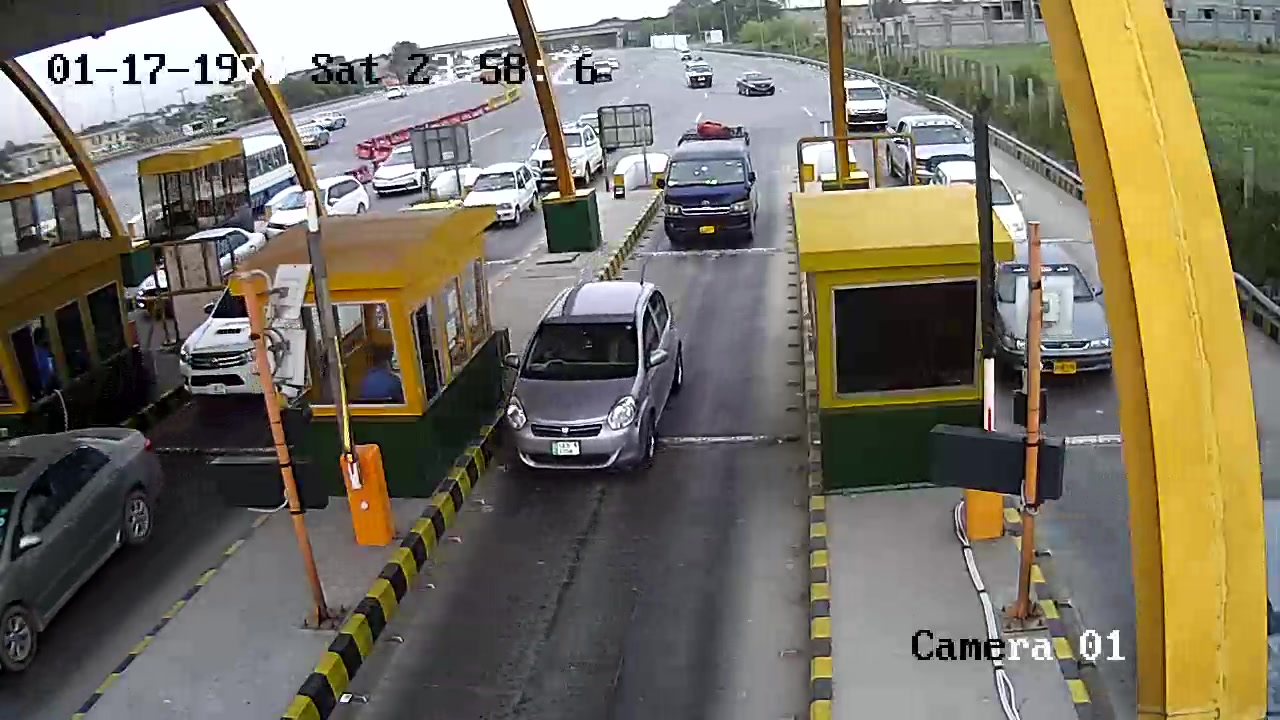F1: (490, 278, 686, 491)
